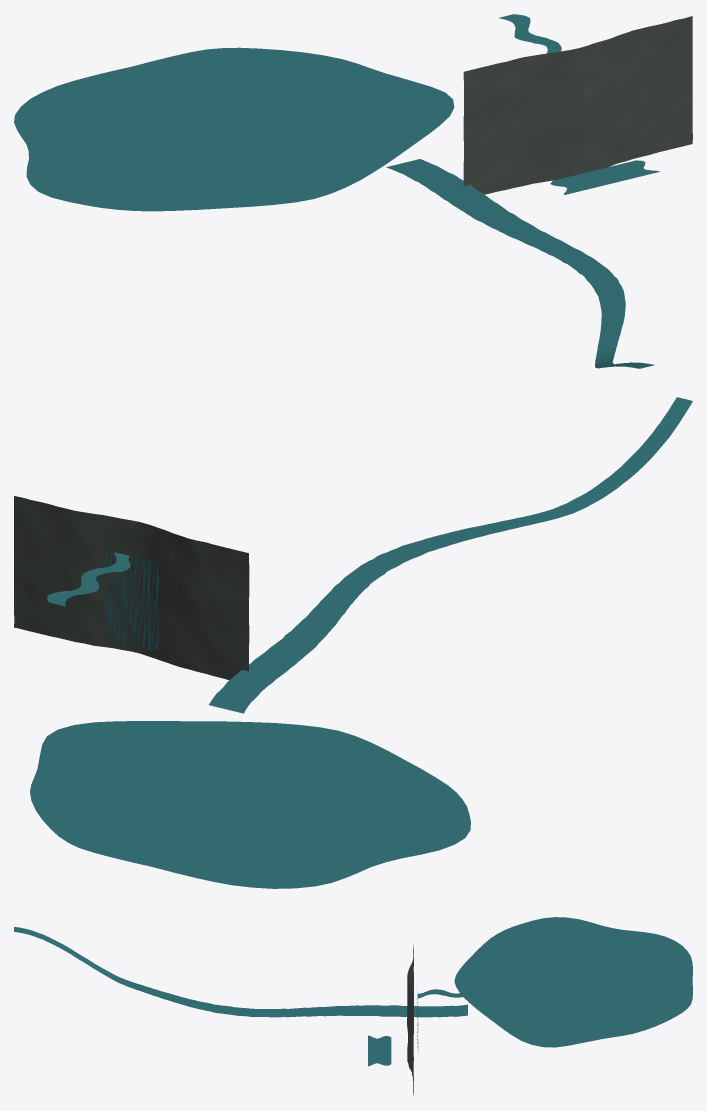
The model's file is water-lake-waterfall-v1.16.glb.
3 views of the same model, one above another, from view 1: azimuth 30°, elevation 25°; view 2: azimuth 150°, elevation 25°; view 3: azimuth 270°, elevation 25° (orthographic). The views are drawn at different scales.
Visible parts, largest first — view 1: lake_basin_surface_v116, waterfall_wet_cliff_v116, river_channel_v116, waterfall_plunge_pool_v116, waterfall_upper_stream_v116; view 2: lake_basin_surface_v116, waterfall_wet_cliff_v116, river_channel_v116, waterfall_sheet_0_v116, waterfall_upper_stream_v116, waterfall_sheet_1_v116; view 3: lake_basin_surface_v116, river_channel_v116, waterfall_wet_cliff_v116, waterfall_plunge_pool_v116, waterfall_upper_stream_v116.
Part boxes in pixels (left/top/right/bottom): lake_basin_surface_v116: left=14, top=47, right=454, bottom=211; waterfall_wet_cliff_v116: left=463, top=16, right=692, bottom=194; river_channel_v116: left=386, top=159, right=654, bottom=368; waterfall_plunge_pool_v116: left=550, top=160, right=659, bottom=194; waterfall_upper_stream_v116: left=499, top=14, right=561, bottom=53; lake_basin_surface_v116: left=30, top=721, right=470, bottom=888; waterfall_wet_cliff_v116: left=14, top=496, right=249, bottom=680; river_channel_v116: left=209, top=397, right=692, bottom=713; waterfall_sheet_0_v116: left=121, top=556, right=149, bottom=649; waterfall_upper_stream_v116: left=47, top=552, right=130, bottom=606; waterfall_sheet_1_v116: left=106, top=551, right=125, bottom=643; lake_basin_surface_v116: left=454, top=917, right=692, bottom=1047; river_channel_v116: left=14, top=926, right=467, bottom=1017; waterfall_wet_cliff_v116: left=407, top=945, right=413, bottom=1096; waterfall_plunge_pool_v116: left=368, top=1035, right=391, bottom=1066; waterfall_upper_stream_v116: left=417, top=988, right=508, bottom=998.
Bounding box in the file's own units: 411 × 92 × 673.
